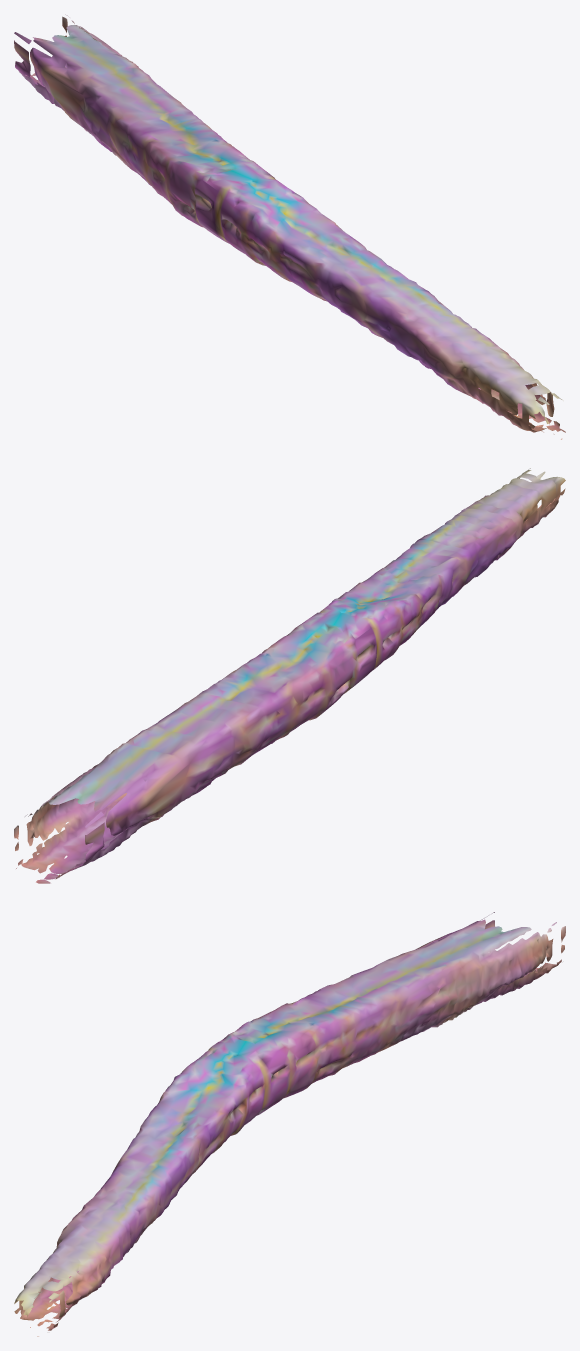
The model's file is draft05_underlay.glb.
3 views of the same model, one above another, from view 1: azimuth 30°, elevation 25°; view 2: azimuth 150°, elevation 25°; view 3: azimuth 330°, elevation 25° (orthographic).
Visible parts, largest first — view 1: draft05_underlay; view 2: draft05_underlay; view 3: draft05_underlay.
Part boxes in pixels (x1,y1,x2,y2): draft05_underlay: (14,14,565,439); draft05_underlay: (14,468,565,883); draft05_underlay: (14,912,565,1336).
Bounding box in the file's own units: 25.47 × 20.98 × 208.
